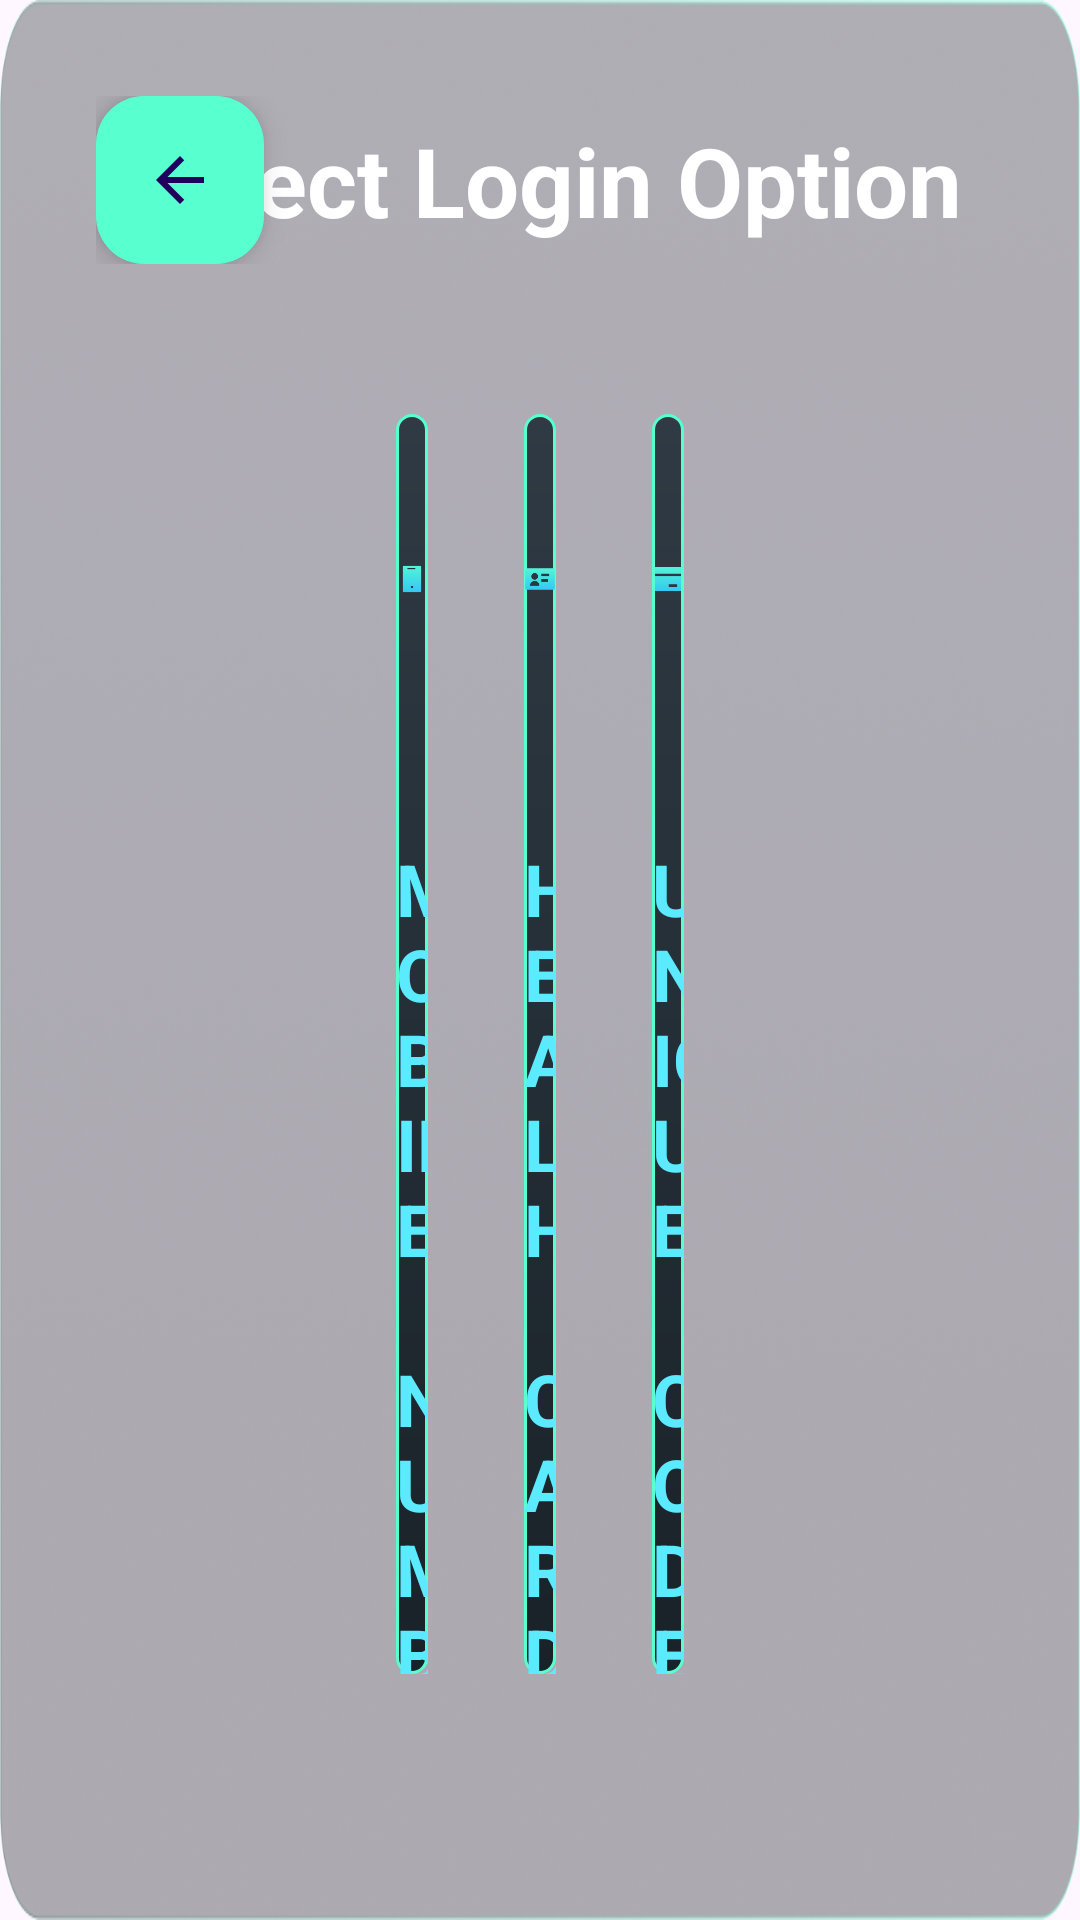

Locate icon controls on the screen. Image size 1080 x 1920, boxes as (x1, y1, x2, y2).
Back Button: (96, 96, 264, 264)
